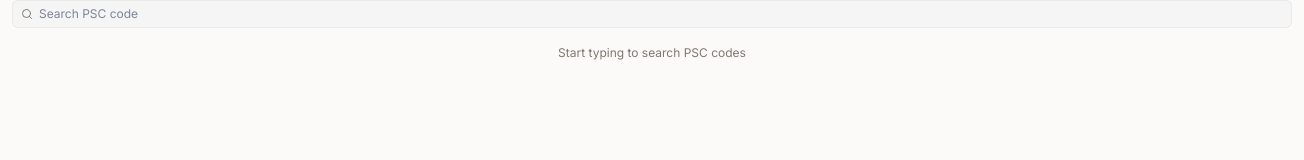
Test: PscFacet › shows the register's own words for a typed query
The width and height of the screenshot is (1304, 160).
Later steps or results of the test are not shown.
Type "roof" into the field labelled "Search PSC code" at (661, 14), box [39,5,1283,23]
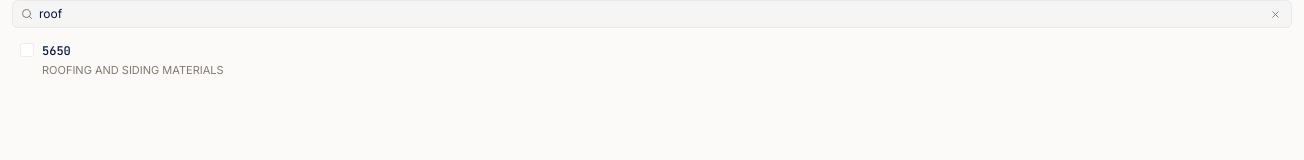
expect the option "5650 ROOFING AND SIDING MATERIALS" is shown: met, box [12,36,1292,84]
